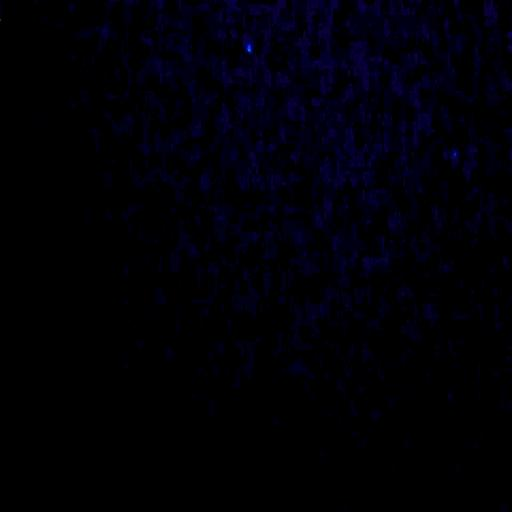object-detection-project: (247, 45, 251, 52)
